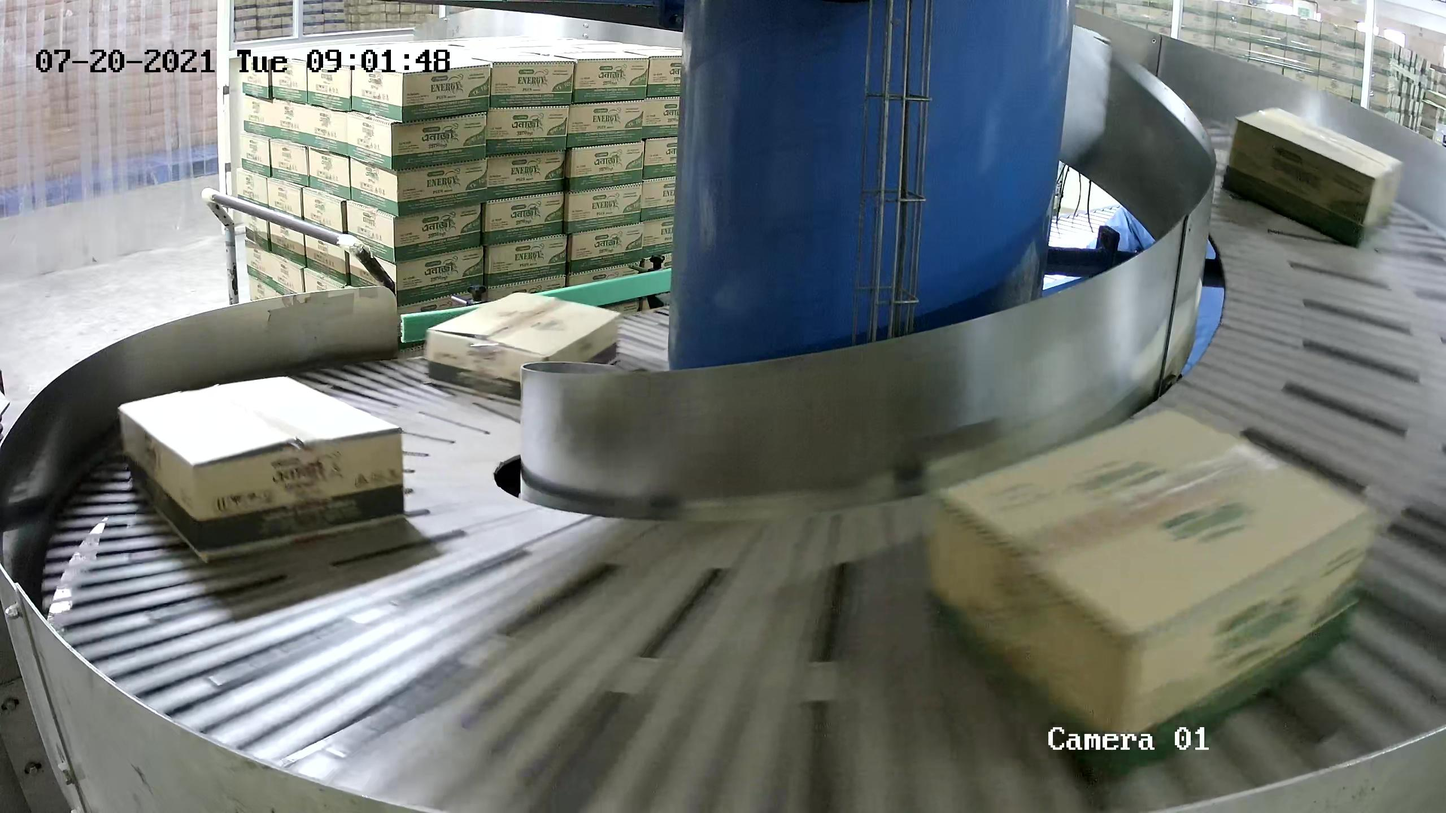Box: (917, 401, 1379, 781), (116, 373, 410, 571), (1219, 103, 1407, 250), (421, 289, 624, 411)
